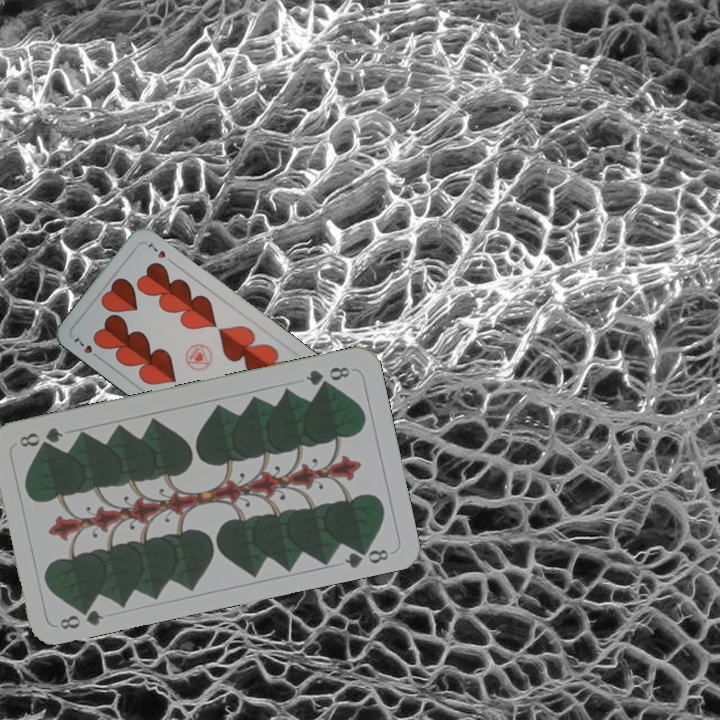G8: (55, 601, 106, 633), (301, 362, 353, 389)
H7: (69, 334, 104, 362)
